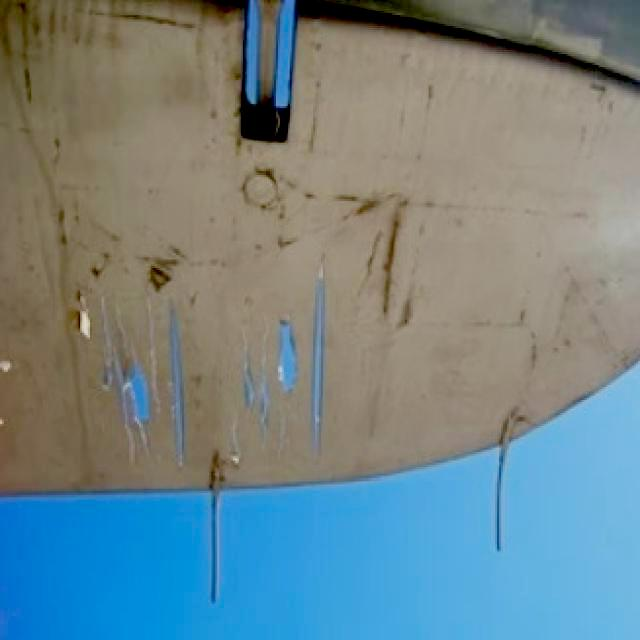crack: (95, 255, 338, 471)
